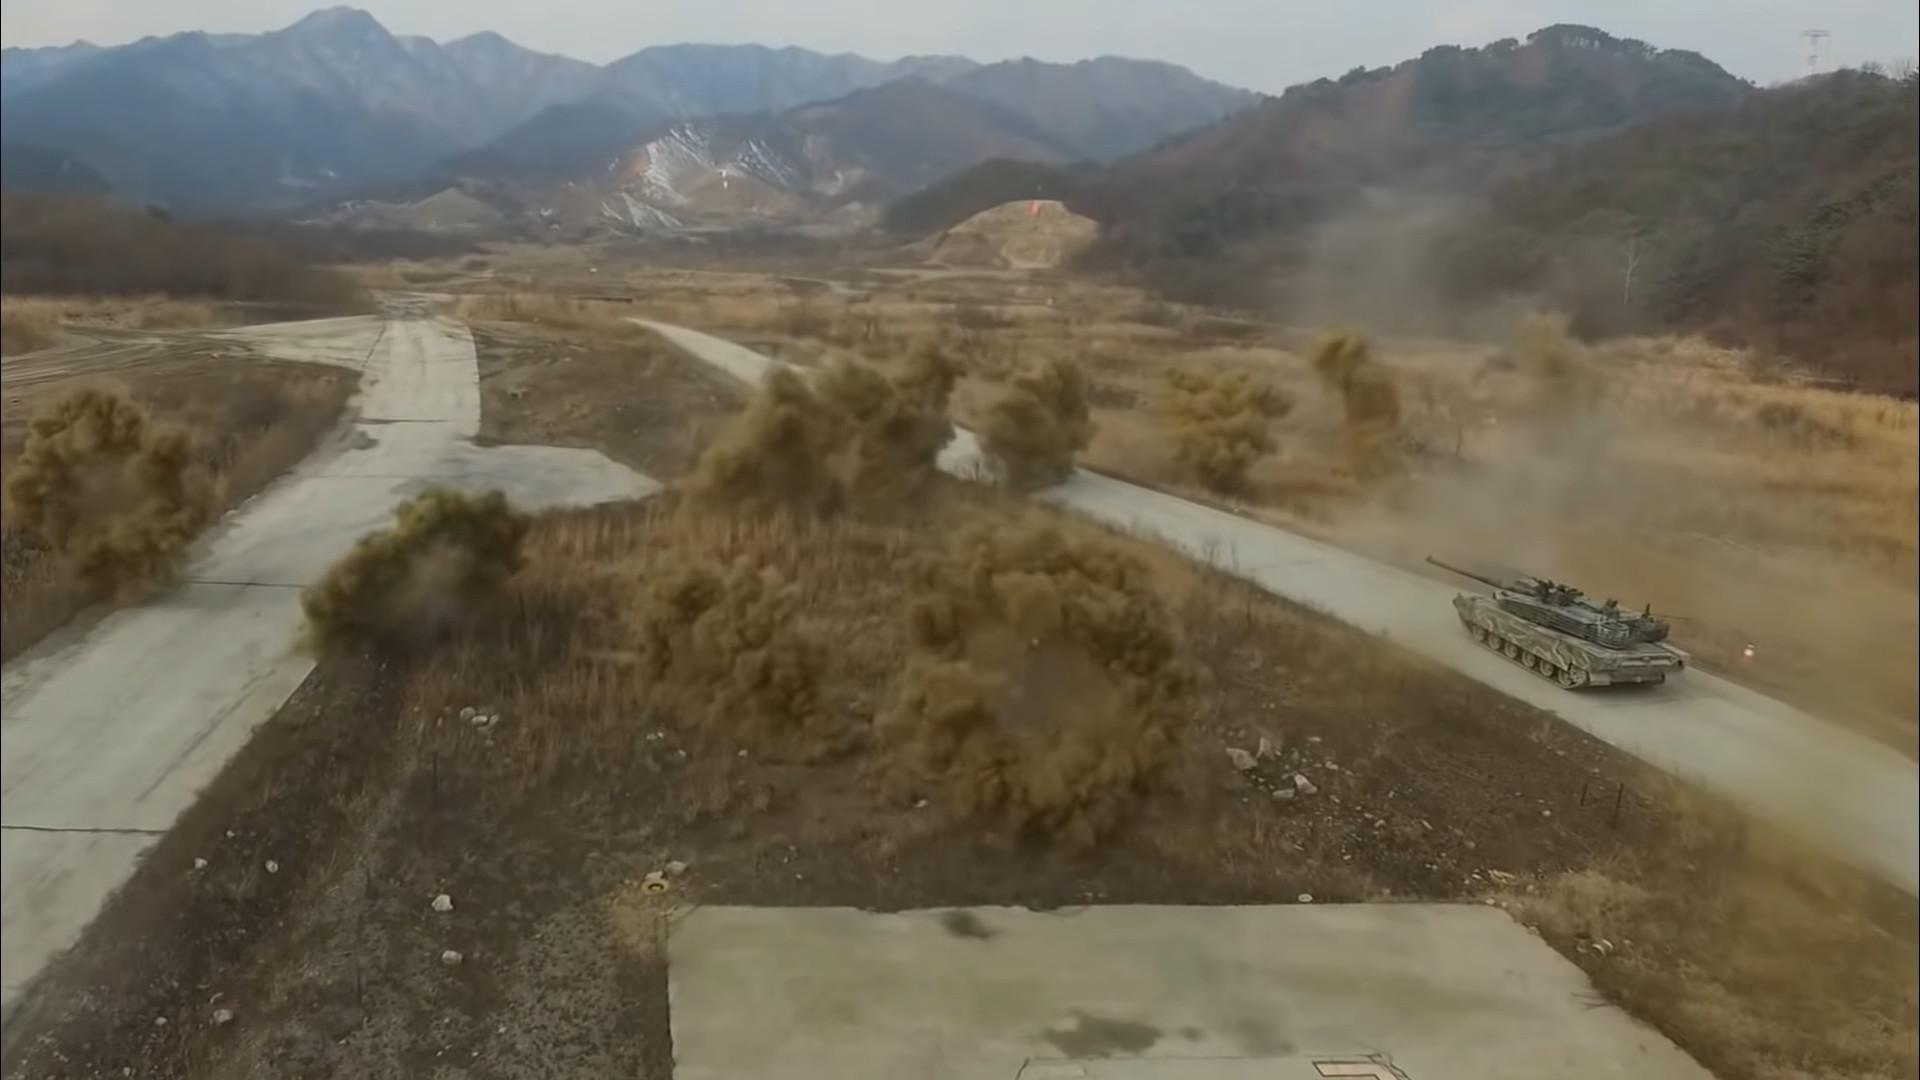tank: (1425, 556, 1688, 690)
